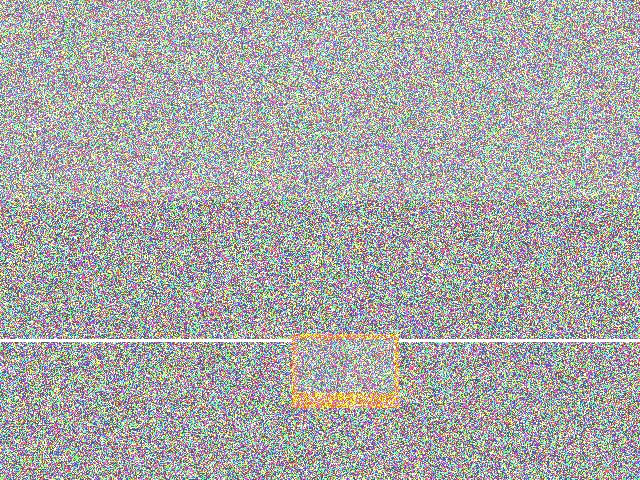bus: (48, 191, 172, 315)
truck: (288, 362, 375, 480)
